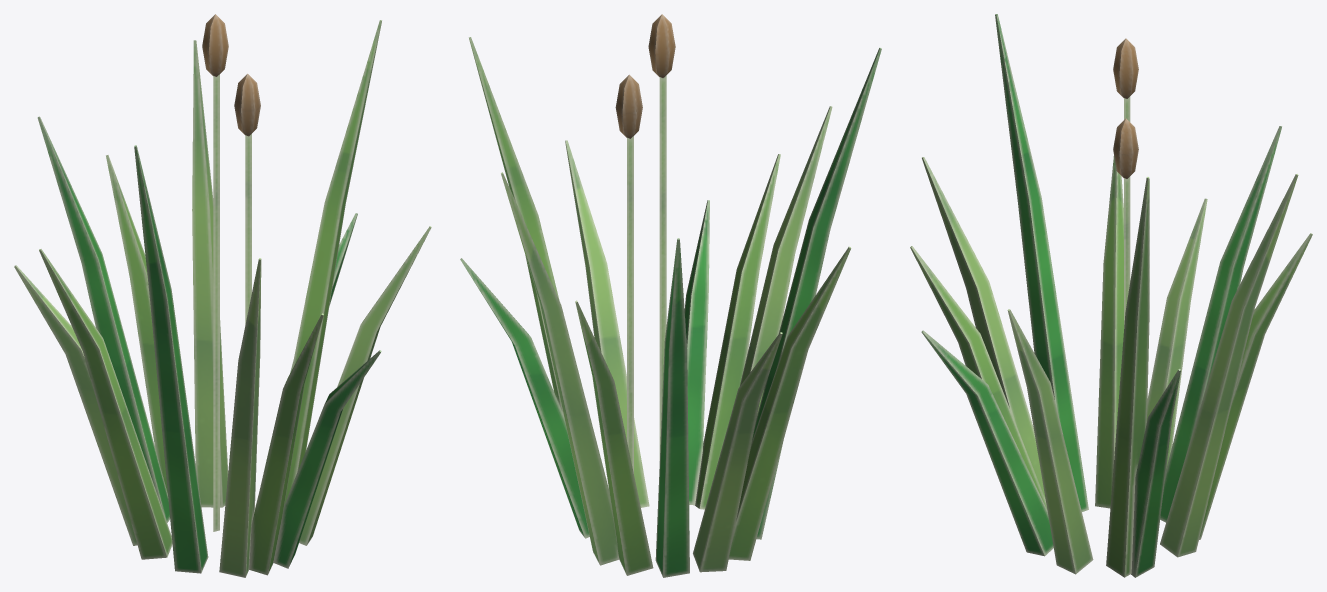
Rendered from grass_tuft.glb.
3 renders of one model, left to right at view 1: azimuth 30°, elevation 25°; view 2: azimuth 150°, elevation 25°; view 3: azimuth 270°, elevation 25°, orthographic. The views are drawn at different scales.
Visible parts, largest first — view 1: SM_GrassTuft; view 2: SM_GrassTuft; view 3: SM_GrassTuft.
Boxes of the visible parts, x1=… form: SM_GrassTuft: x1=14, y1=14, x2=431, y2=577; SM_GrassTuft: x1=460, y1=14, x2=881, y2=577; SM_GrassTuft: x1=910, y1=14, x2=1312, y2=577.
Size of the model in its own units: 0.5589 by 0.7769 by 0.5628.
1 material, 1 textured.
